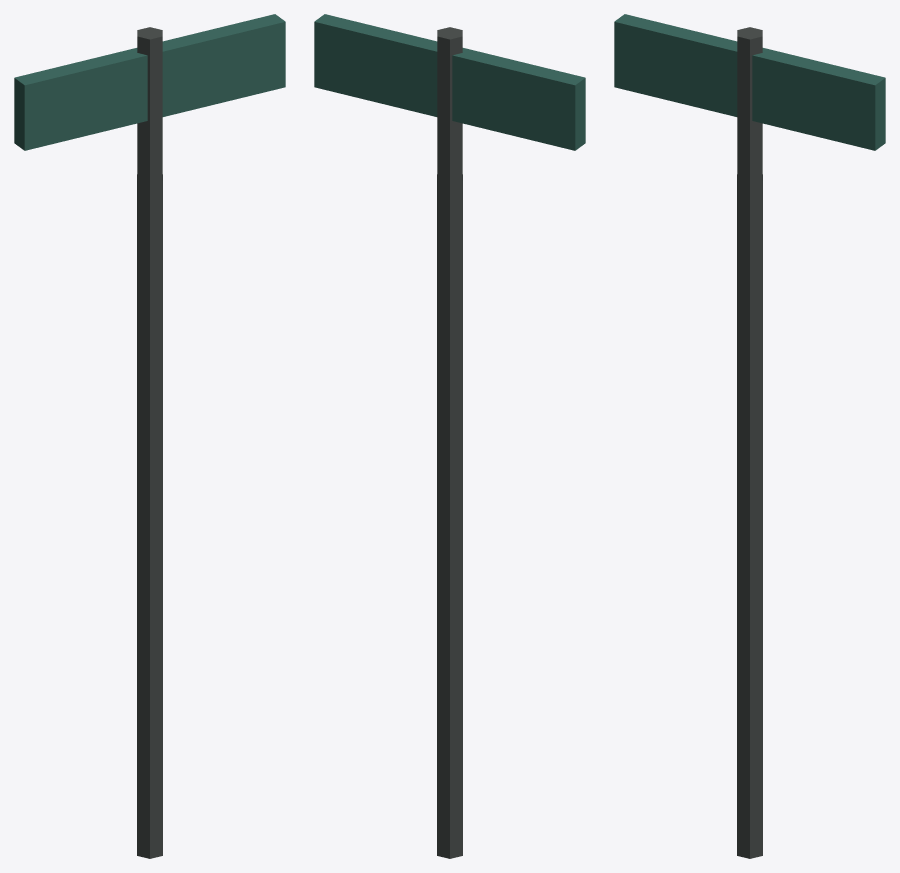
Rendered from street_sign.glb.
3 renders of one model, left to right at view 1: azimuth 30°, elevation 25°; view 2: azimuth 150°, elevation 25°; view 3: azimuth 330°, elevation 25°, orthographic.
Parts seen in each view (by area): view 1: street_sign; view 2: street_sign; view 3: street_sign.
Boxes of the visible parts, x1=… form: street_sign: x1=14, y1=14, x2=285, y2=858; street_sign: x1=314, y1=14, x2=585, y2=858; street_sign: x1=614, y1=14, x2=885, y2=858.
Bounding box in the file's own units: 1 × 3 × 0.0866.
